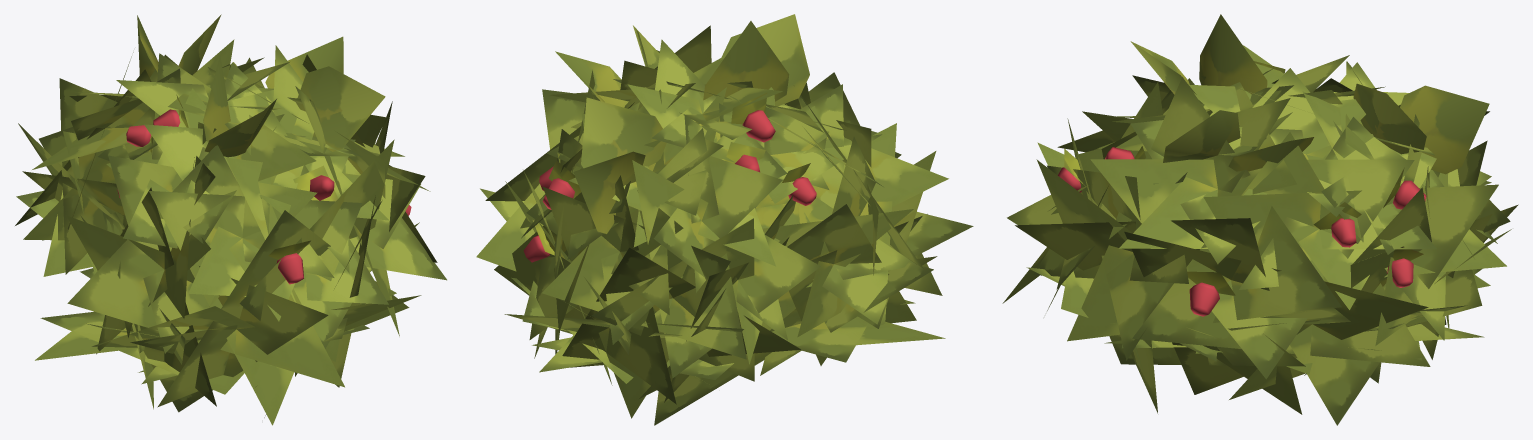
Rendered from Raspberry_Bush_3b.glb.
3 views of the same model, side by side, from view 1: azimuth 30°, elevation 25°; view 2: azimuth 150°, elevation 25°; view 3: azimuth 270°, elevation 25° (orthographic). The views are drawn at different scales.
Parts seen in each view (by area): view 1: Raspberry_Bush_3b; view 2: Raspberry_Bush_3b; view 3: Raspberry_Bush_3b.
Part boxes in pixels (left/top/right/bottom): Raspberry_Bush_3b: left=15, top=14, right=446, bottom=425; Raspberry_Bush_3b: left=476, top=14, right=973, bottom=425; Raspberry_Bush_3b: left=1002, top=14, right=1518, bottom=425.
Bounding box in the file's own units: 1.36 × 1.11 × 1.45.
Materials: 1 (1 with a texture image).
